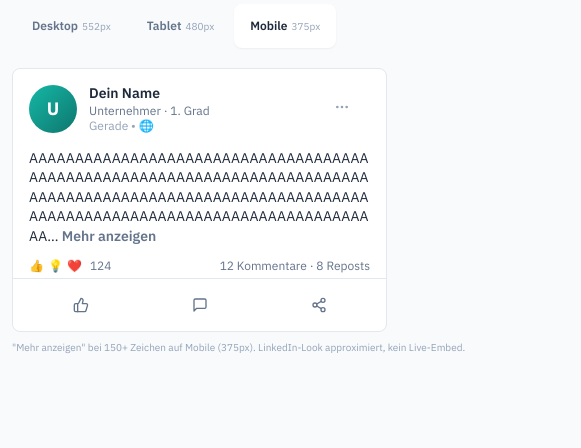
PostPreview › switching device tab resets expansion state for new device
The width and height of the screenshot is (581, 448).
// Expand on mobile
Click the button "Mehr anzeigen". click: (109,236)
box: x1=62 y1=226 x2=156 y2=246
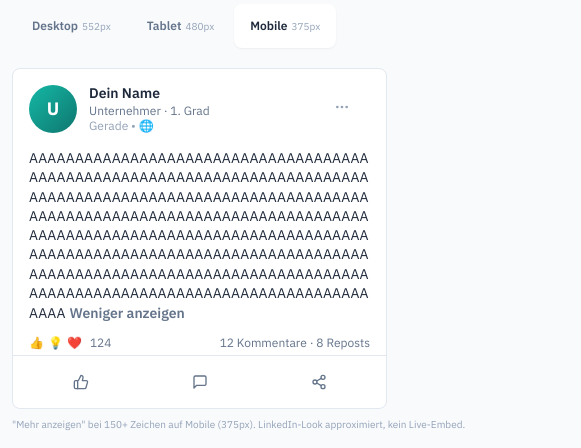
Check: the button "Weniger anzeigen" is shown, box x1=70 y1=303 x2=185 y2=323
Click the button "Desktop552px". click: (71,26)
box: x1=16 y1=4 x2=127 y2=48
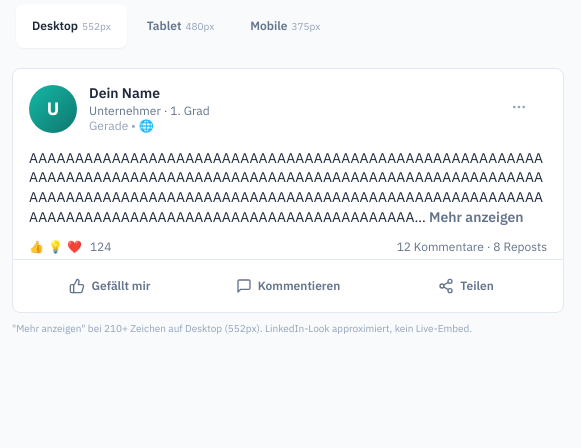
Check: the button "Mehr anzeigen" is shown, box x1=429 y1=207 x2=524 y2=227
